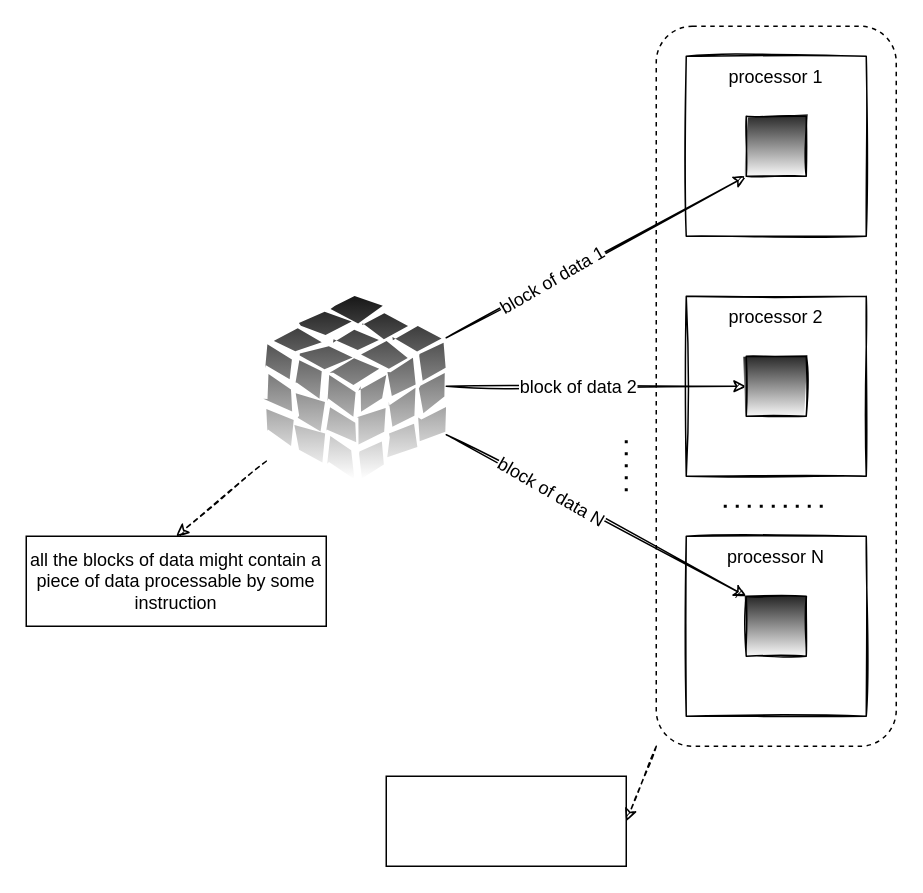
Image size: 923x893. Some labels were removed from this diagram. The centre of each missing label's shape, as x and y in pixels:
"all the processors should be loaded with the same instruction" goes at (x=505, y=820).
"data" goes at (x=356, y=386).
